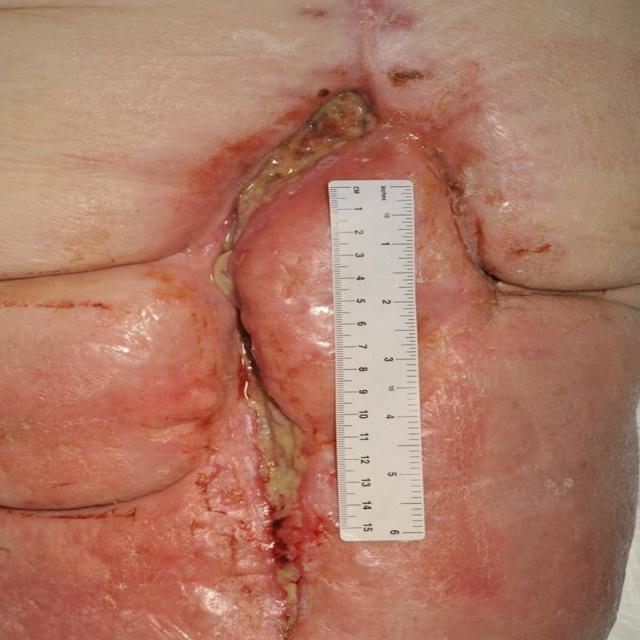wound: (138, 74, 373, 624)
